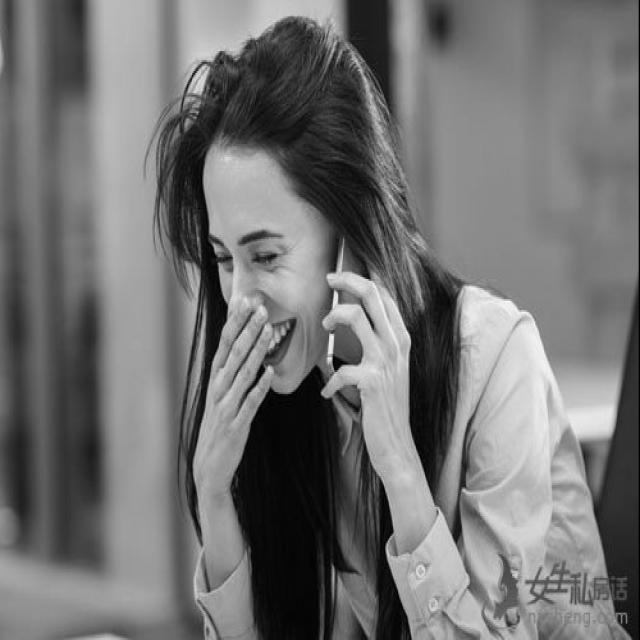phone: (301, 184, 430, 430)
